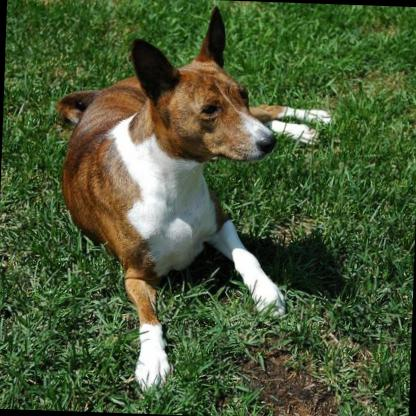basenji: (43, 0, 336, 400)
